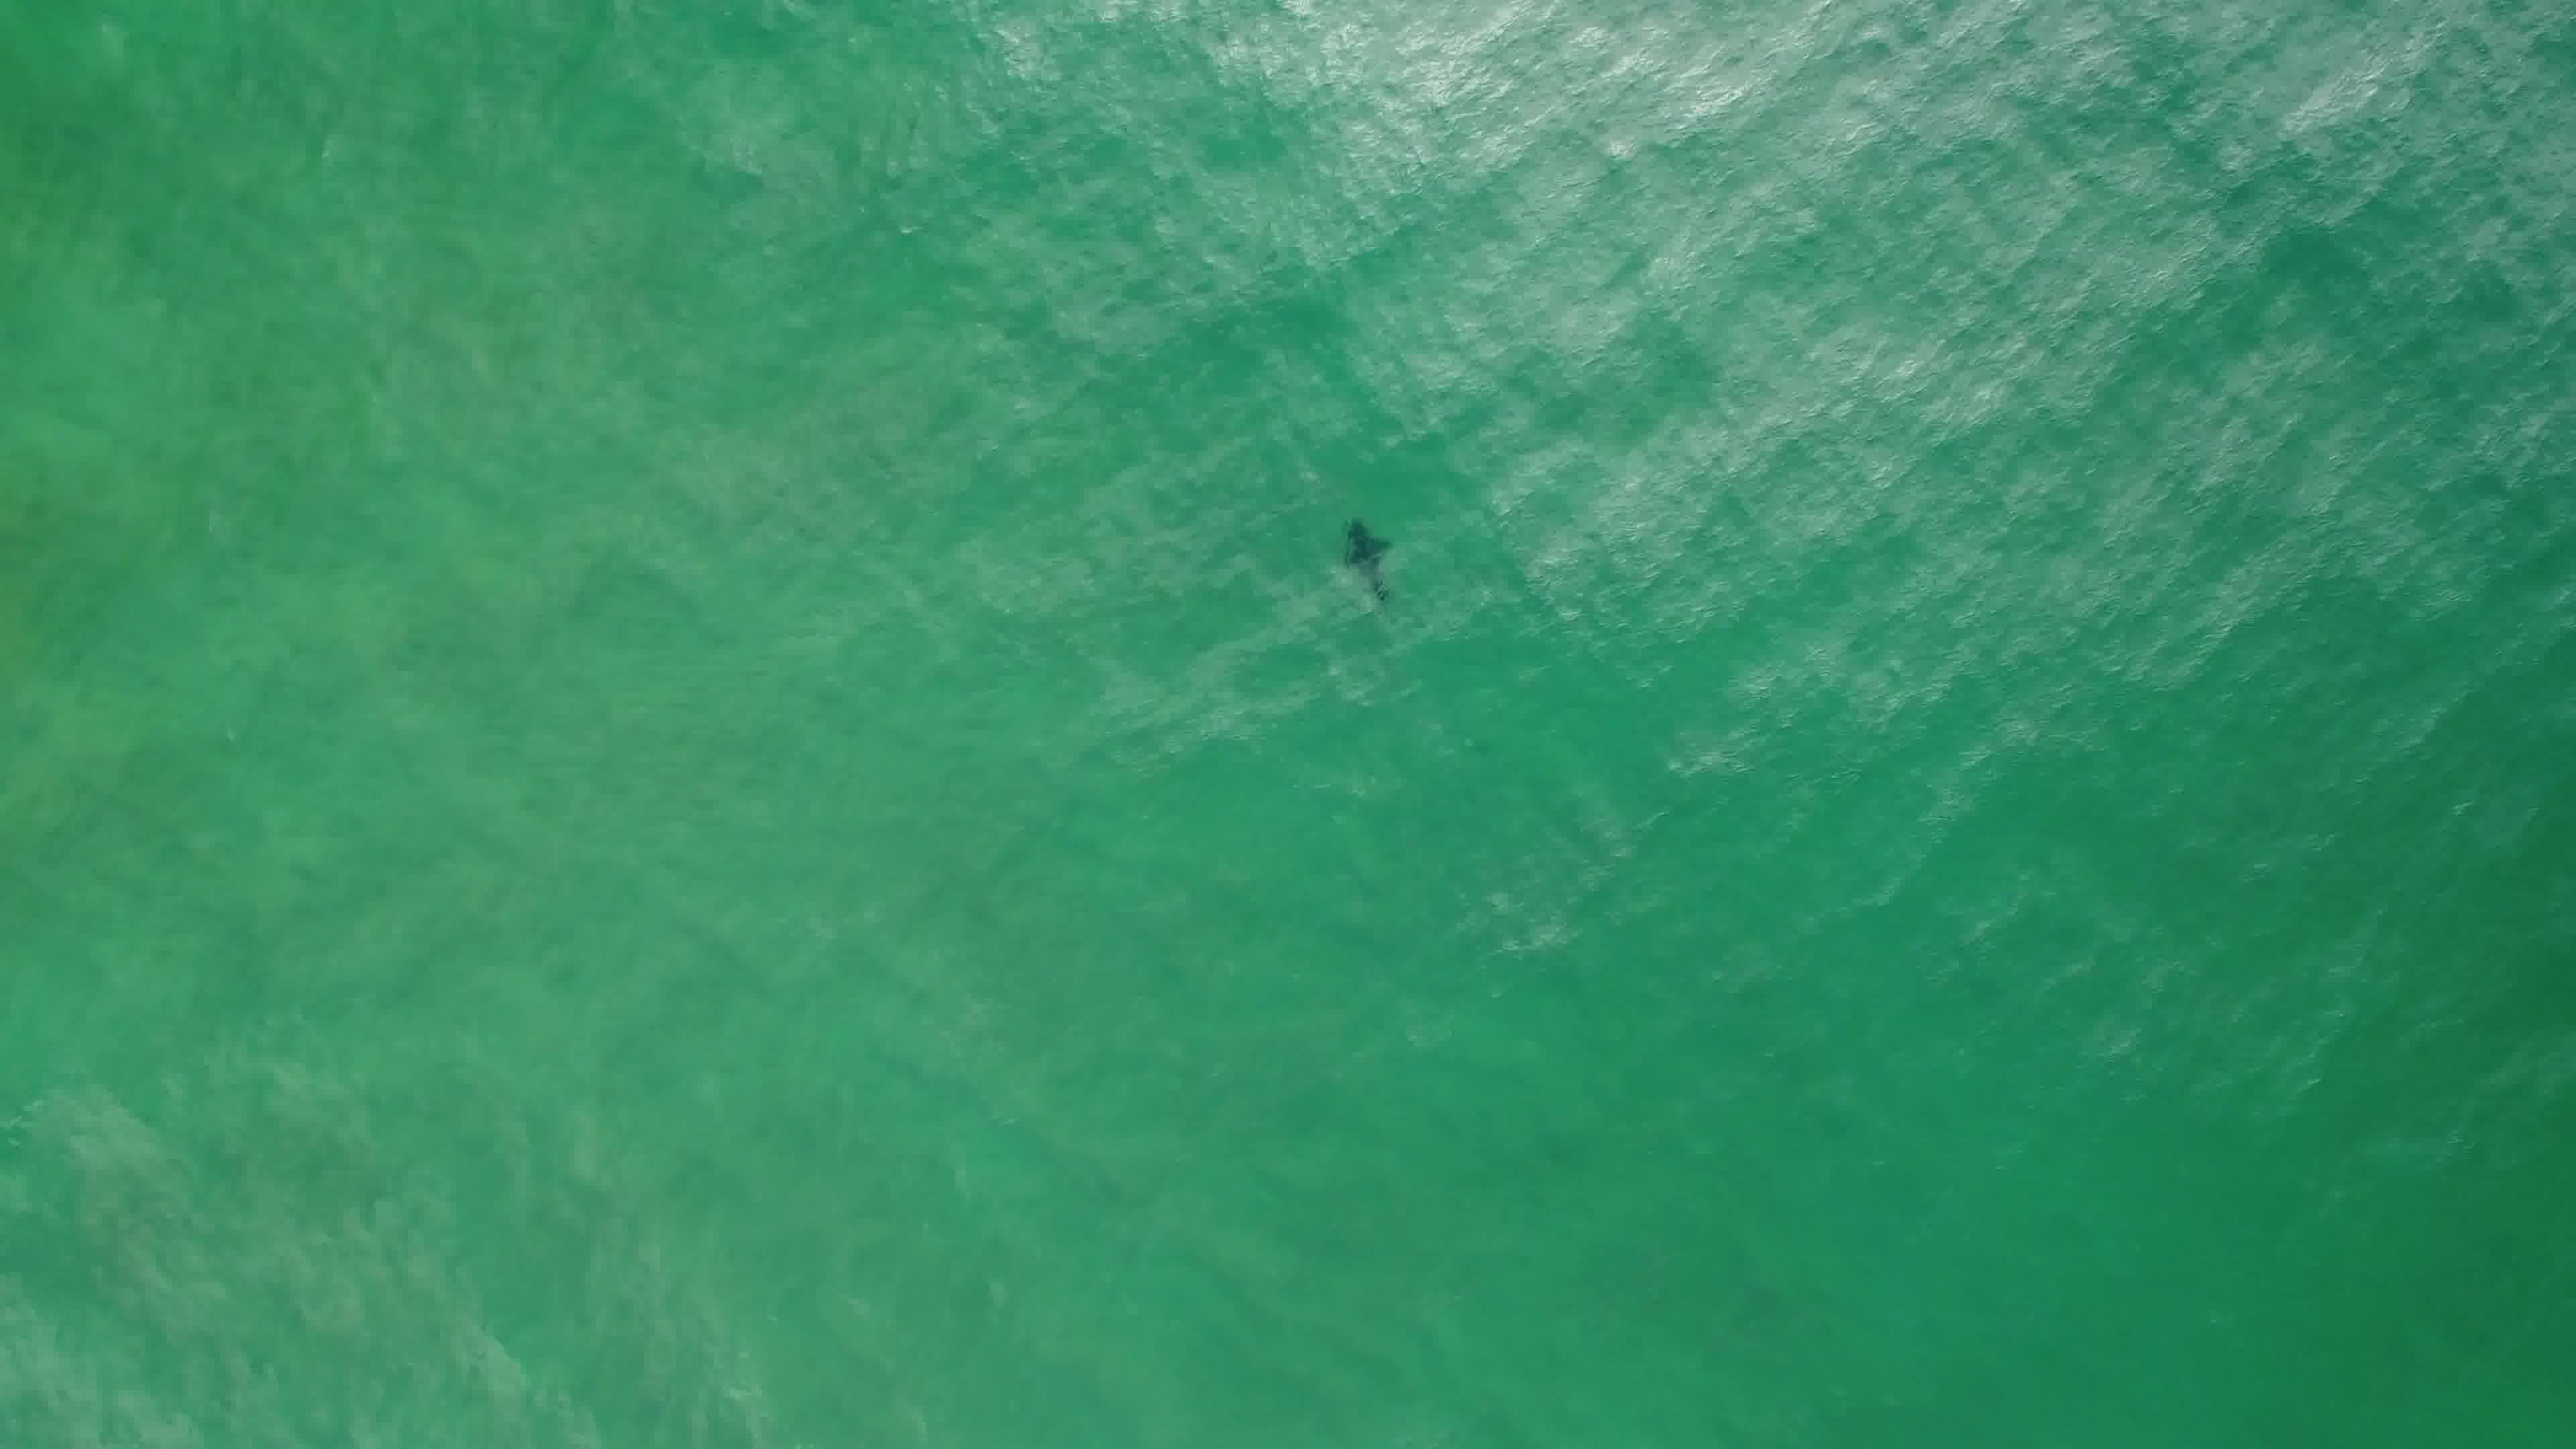shark: (1336, 513, 1405, 623)
